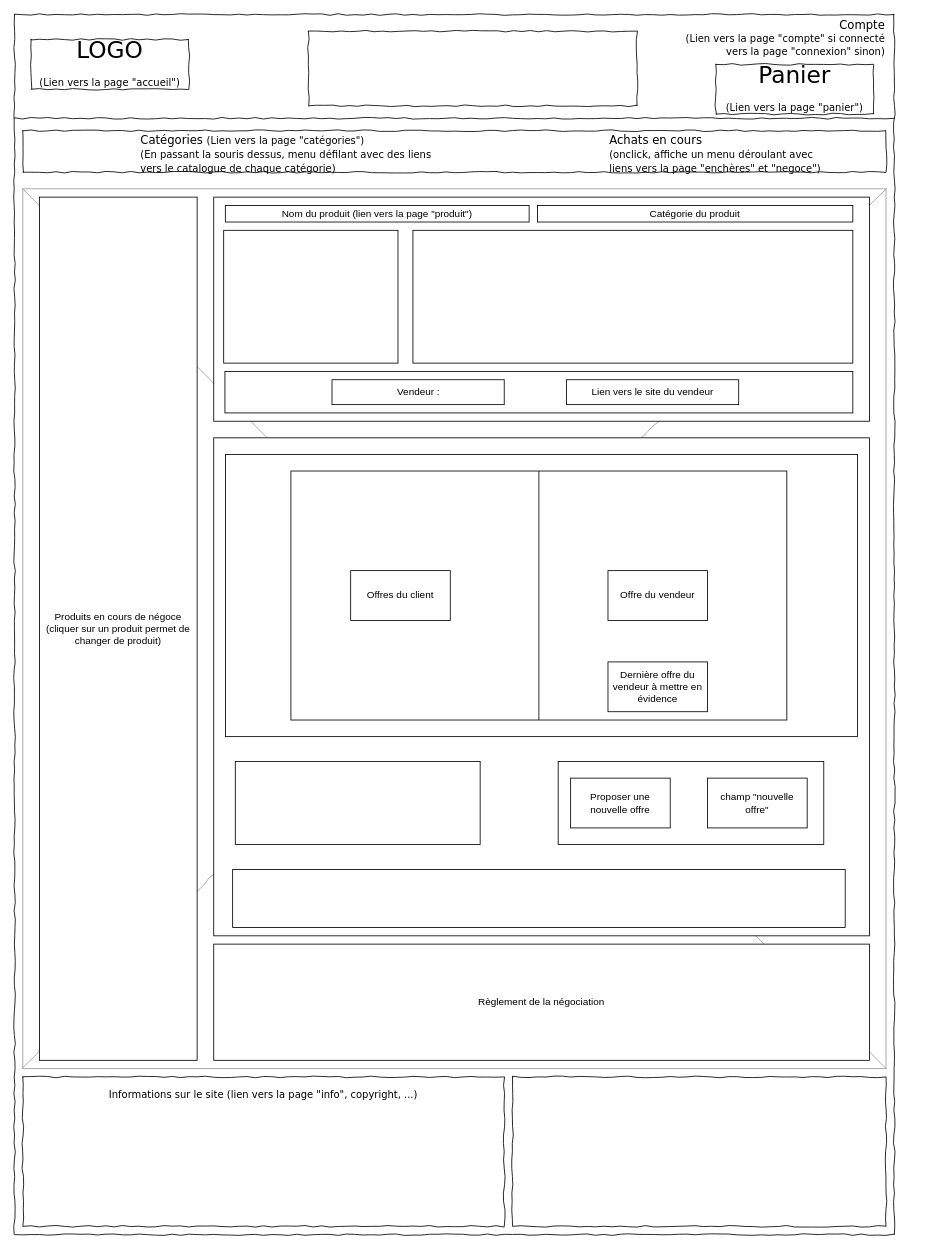
Some shapes in this 950 by 1249 pixel diagram are drawn without their labels. Here are the shapes that lost their labels. From the top down, the box of each, then its label:
(308, 30, 637, 106): Bienvenue ...
(223, 229, 398, 363): photo du produit (lien vers la page "produit")
(412, 229, 853, 363): description brève
(290, 470, 787, 720): Offres précédentes
(234, 761, 480, 845): Accepter l'offre
(232, 869, 845, 928): Arrêter la négociation
(512, 1076, 886, 1226): Nous contacter
